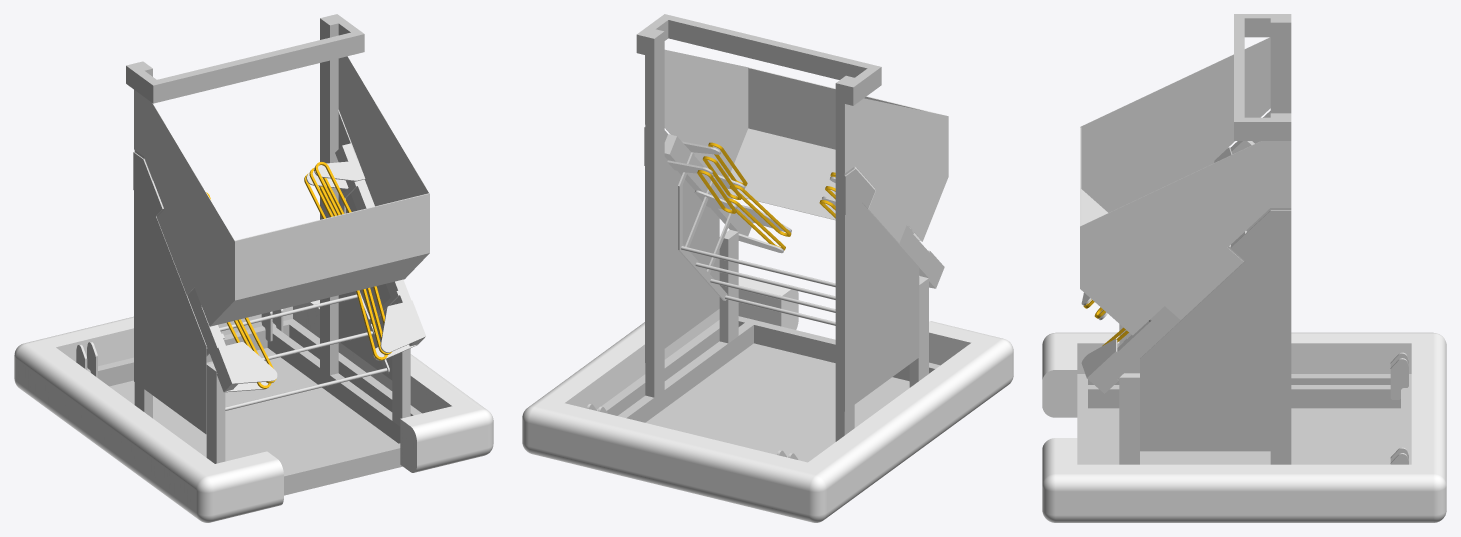
Rendered from Wildstang2019 - base.gltf.
The picture shows the model from 3 angles, left to right: view 1: azimuth 30°, elevation 25°; view 2: azimuth 150°, elevation 25°; view 3: azimuth 270°, elevation 25°; orthographic projection. The views are drawn at different scales.
Parts seen in each view (by area): view 1: FrameRails, leftBumper, upperBackPanel, leftLowerPanel, leftUpperPanel, rightUpperPanel, Right bumper, staticCrossbar, lowerBackPanel, rightUpright, BR bumper, BL bumper (+14 smaller); view 2: FrameRails, leftBumper, front bumper, leftLowerPanel, leftUpperPanel, rightUpperPanel, rightUpright, rightLowerPanel, lowerBackPanel, Right bumper, upperBackPanel, staticCrossbar (+12 smaller); view 3: rightLowerPanel, Right bumper, rightUpperPanel, leftUpperPanel, FrameRails, leftBumper, front bumper, BL bumper, rightPassthorughRollerBar, leftUpright, rightPassthorughUpright, rightGusset (+8 smaller).
Boxes of the visible parts, bbox=[...] form: FrameRails: bbox=[87, 319, 421, 495]; leftBumper: bbox=[14, 339, 231, 522]; upperBackPanel: bbox=[235, 193, 429, 300]; leftLowerPanel: bbox=[134, 190, 206, 434]; leftUpperPanel: bbox=[134, 90, 235, 326]; rightUpperPanel: bbox=[338, 56, 429, 279]; Right bumper: bbox=[293, 300, 493, 459]; staticCrossbar: bbox=[157, 32, 355, 101]; lowerBackPanel: bbox=[210, 253, 428, 326]; rightUpright: bbox=[320, 16, 338, 375]; BR bumper: bbox=[400, 406, 468, 472]; BL bumper: bbox=[215, 451, 283, 517]; FrameRails: bbox=[597, 316, 940, 462]; leftBumper: bbox=[790, 334, 1013, 522]; front bumper: bbox=[547, 403, 807, 517]; leftLowerPanel: bbox=[844, 203, 919, 411]; leftUpperPanel: bbox=[844, 98, 948, 243]; rightUpperPanel: bbox=[645, 49, 748, 176]; rightUpright: bbox=[645, 29, 664, 397]; rightLowerPanel: bbox=[645, 157, 719, 362]; lowerBackPanel: bbox=[727, 128, 921, 241]; Right bumper: bbox=[522, 309, 719, 458]; upperBackPanel: bbox=[748, 67, 942, 149]; staticCrossbar: bbox=[668, 16, 872, 79]; rightLowerPanel: bbox=[1140, 250, 1291, 451]; Right bumper: bbox=[1042, 464, 1446, 522]; rightUpperPanel: bbox=[1080, 141, 1291, 335]; leftUpperPanel: bbox=[1080, 37, 1270, 212]; FrameRails: bbox=[1077, 374, 1411, 464]; leftBumper: bbox=[1042, 332, 1446, 373]; front bumper: bbox=[1411, 343, 1446, 473]; BL bumper: bbox=[1042, 343, 1077, 417]; rightPassthorughRollerBar: bbox=[1088, 231, 1246, 392]; leftUpright: bbox=[1270, 18, 1291, 113]; rightPassthorughUpright: bbox=[1119, 373, 1139, 464]; rightGusset: bbox=[1230, 210, 1291, 260].
Size of the model in its own units: 0.87 by 1.04 by 0.9843.
